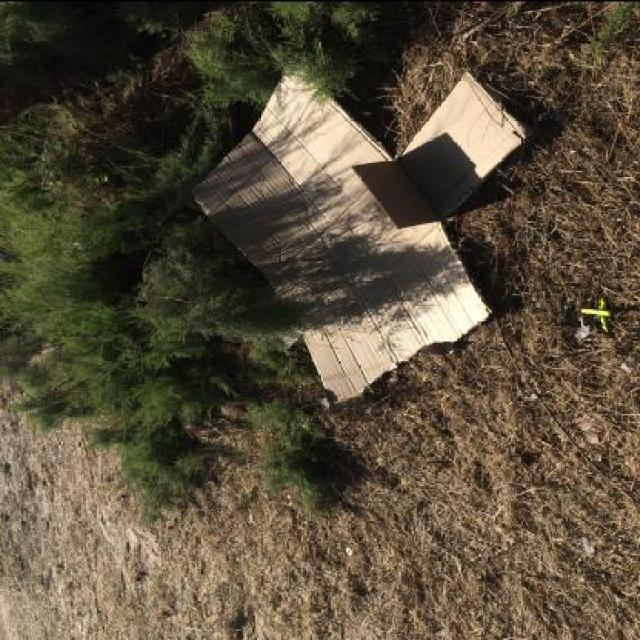cardboard: (193, 62, 535, 407)
plastic: (580, 297, 611, 331)
